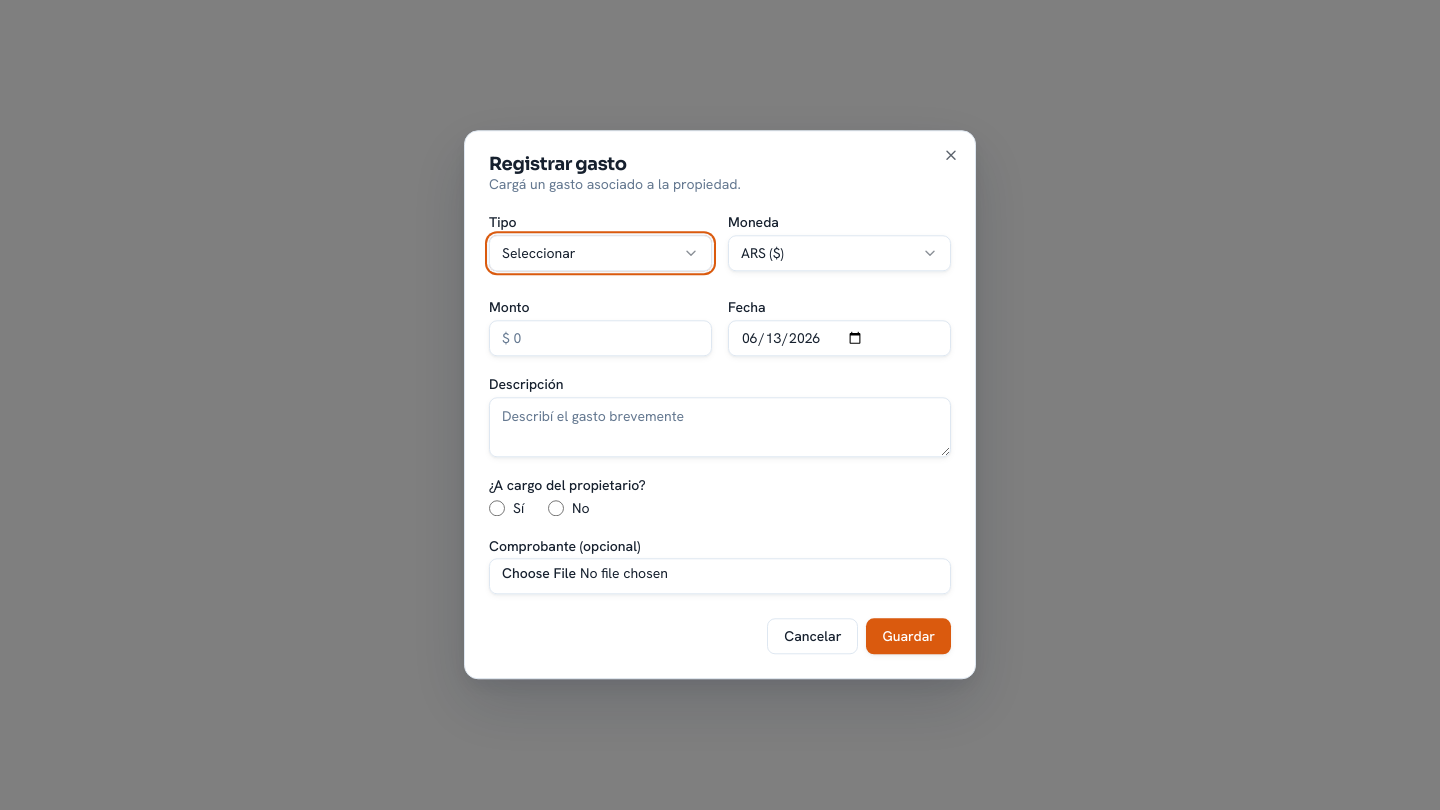
Test: ExpenseFormDialog — R23 validation › shows a validation error and blocks submit when amount is missing
This screenshot has width=1440, height=810.
# Submit without filling any field
Click the button "Guardar" at (909, 637), box 866,619 -> 951,655
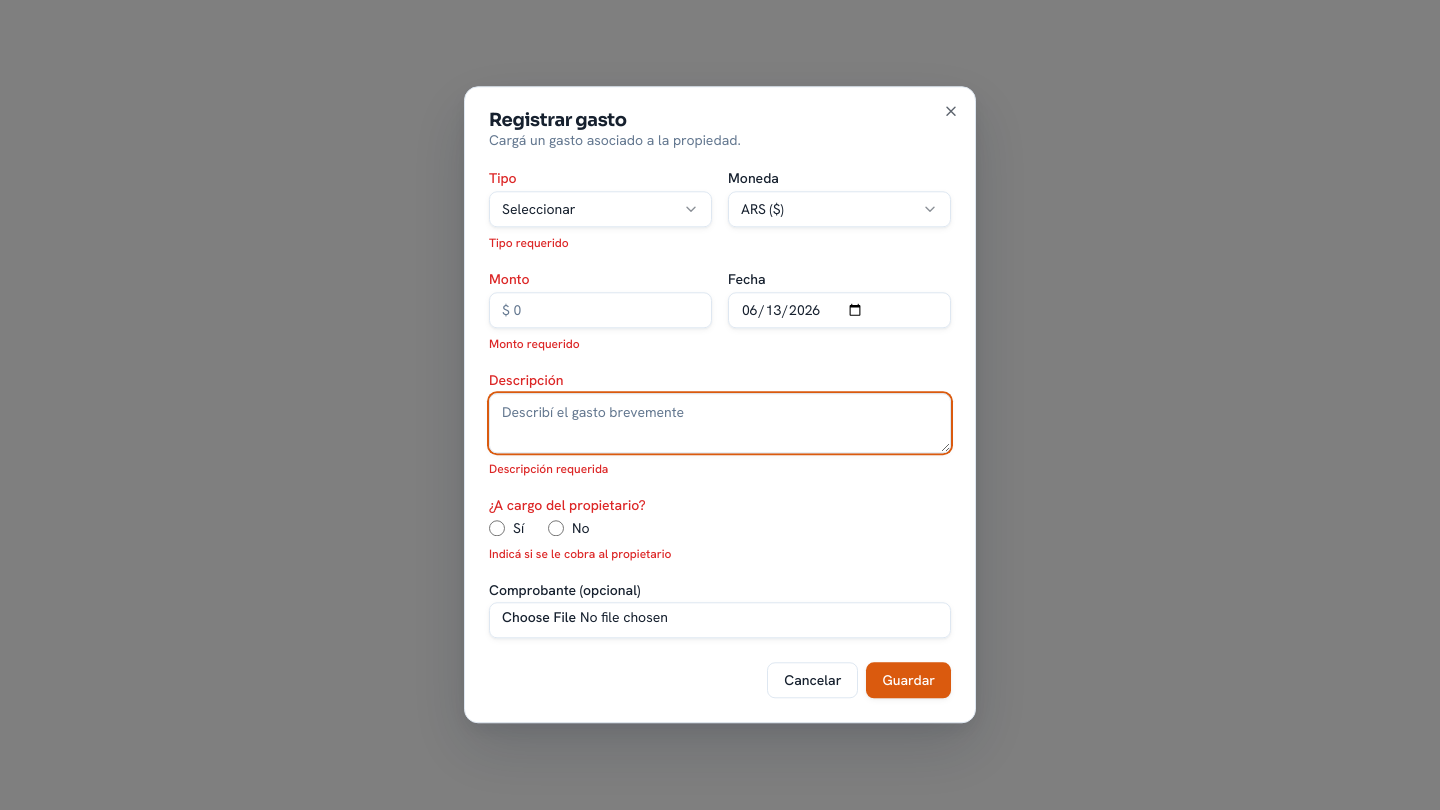
Result: the text "Tipo requerido" is shown at 489,236 -> 569,252
